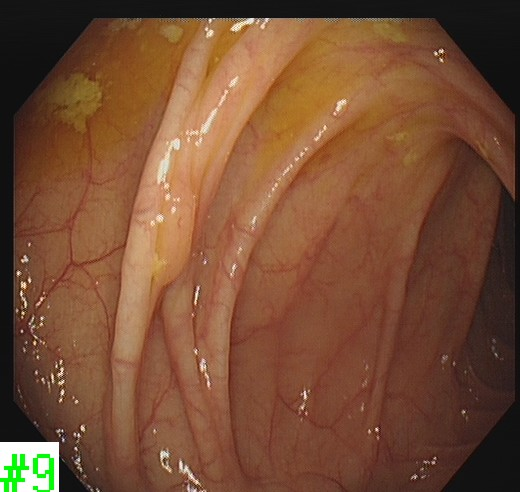others: (156, 176, 198, 290)
